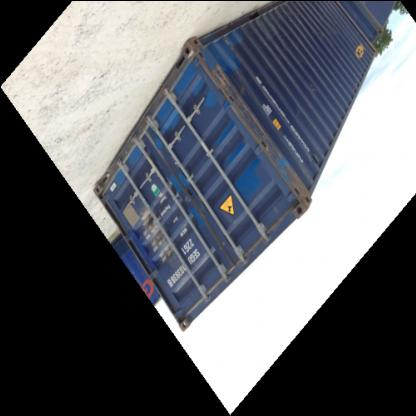Damage: (200, 62, 272, 162), (140, 216, 172, 268), (280, 172, 312, 206), (267, 16, 297, 52)
